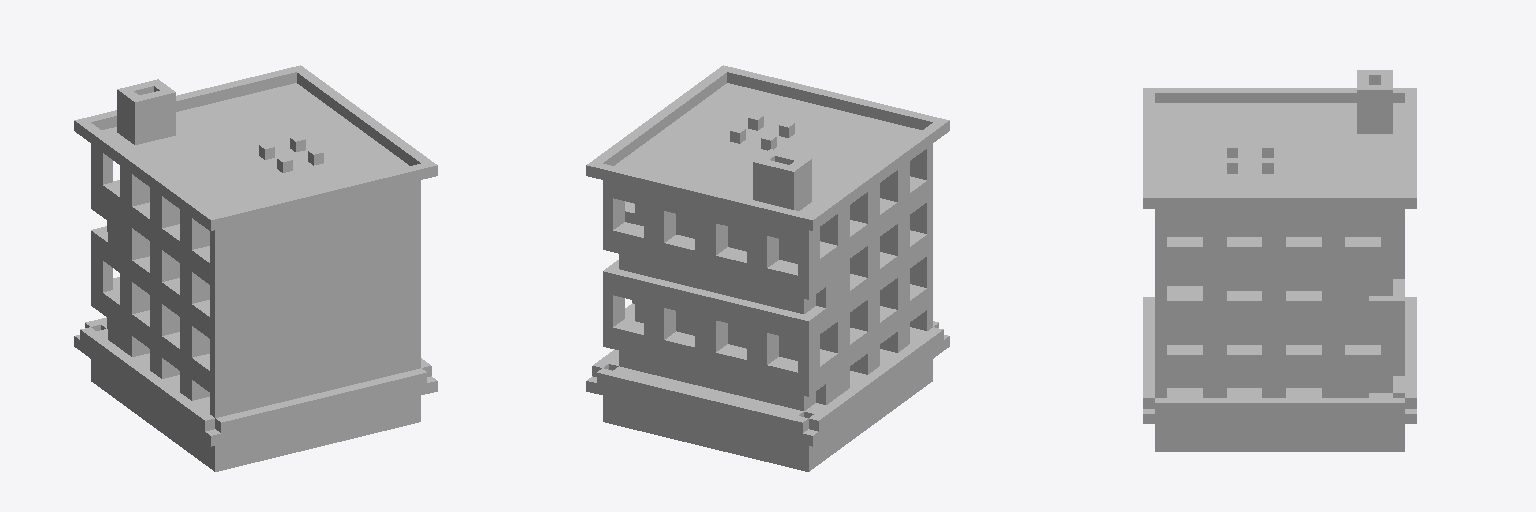
File: littlebuild_3.obj
The picture shows the model from 3 angles: view 1: azimuth 30°, elevation 25°; view 2: azimuth 150°, elevation 25°; view 3: azimuth 270°, elevation 25°; orthographic projection.
Size of the model in its own units: 22 by 27 by 23.